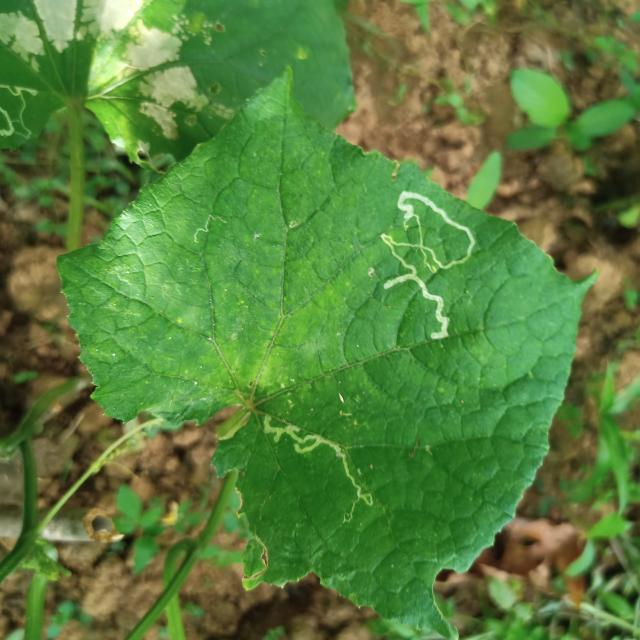disease_cucumber: (0, 3, 223, 139)
